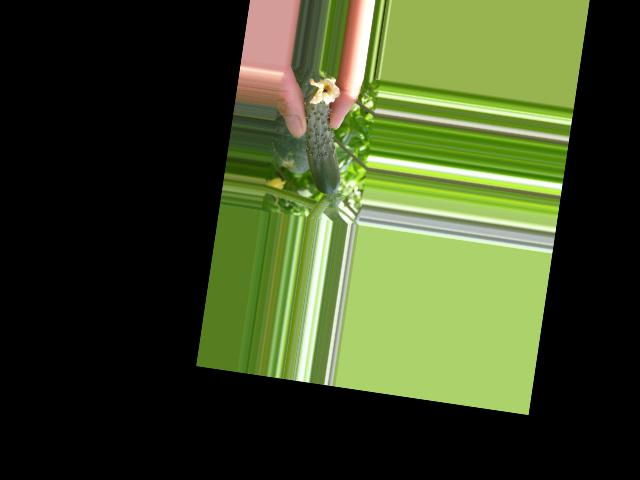cucumber: (293, 75, 354, 196)
